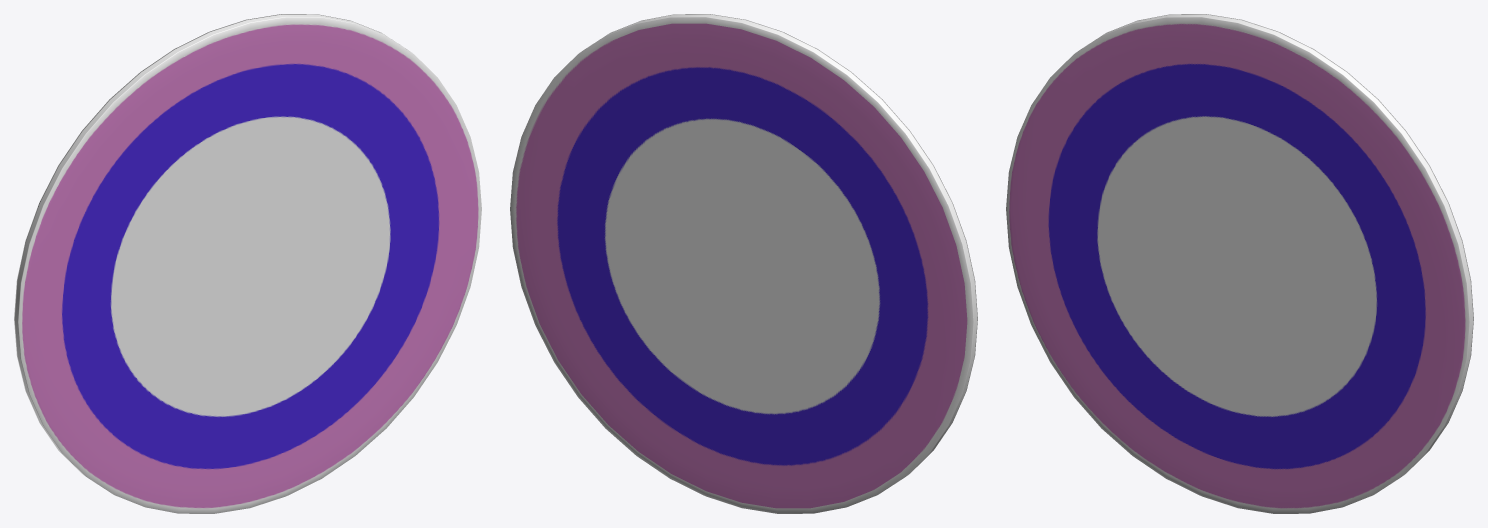
File: target file .fbx
3 renders of one model, left to right at view 1: azimuth 30°, elevation 25°; view 2: azimuth 150°, elevation 25°; view 3: azimuth 330°, elevation 25°, orthographic.
Parts seen in each view (by area): view 1: pCylinder1; view 2: pCylinder1; view 3: pCylinder1.
Part boxes in pixels (x1,y1,x2,y2): pCylinder1: (14,14,481,513); pCylinder1: (510,14,977,513); pCylinder1: (1006,14,1473,513).
Size of the model in its own units: 1.98 by 1.98 by 0.0414.
